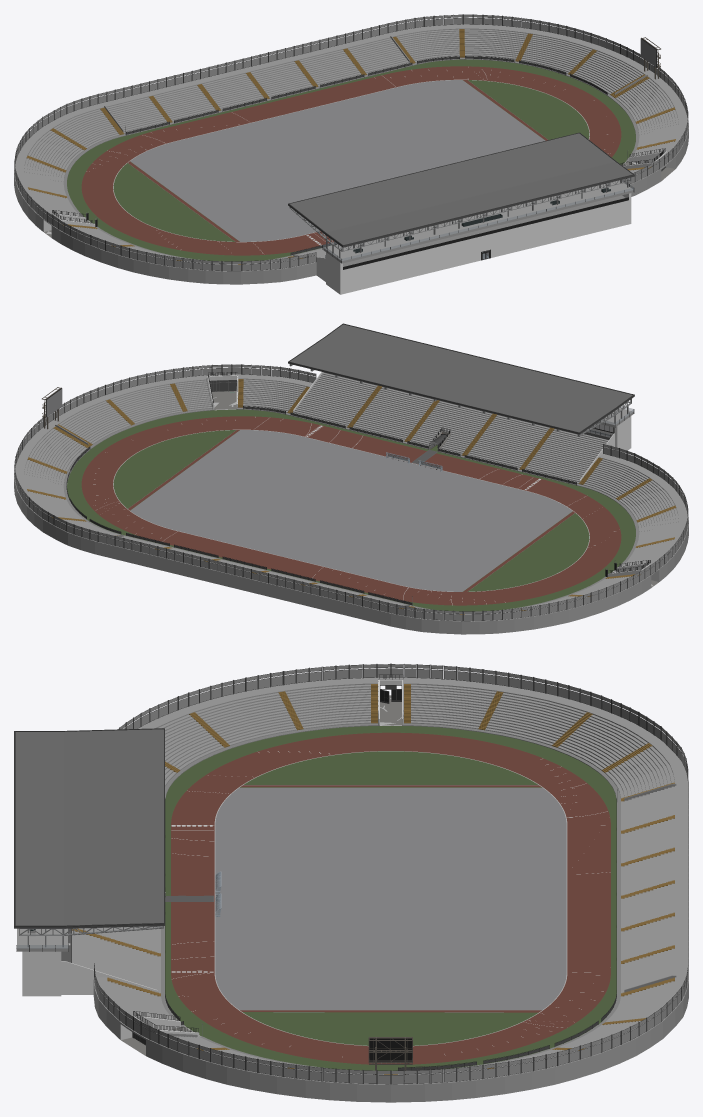
Rendered from stadium_generic_eastern_olympic_large.glb.
3 renders of one model, top to bottom at view 1: azimuth 30°, elevation 25°; view 2: azimuth 150°, elevation 25°; view 3: azimuth 270°, elevation 25°, orthographic. The views are drawn at different scales.
Parts seen in each view (by area): view 1: stadium; view 2: stadium; view 3: stadium.
Boxes of the visible parts, bbox=[...] form: stadium: bbox=[14, 14, 688, 294]; stadium: bbox=[14, 323, 688, 634]; stadium: bbox=[14, 663, 688, 1102].
Size of the model in its own units: 218 by 18.36 by 153.
